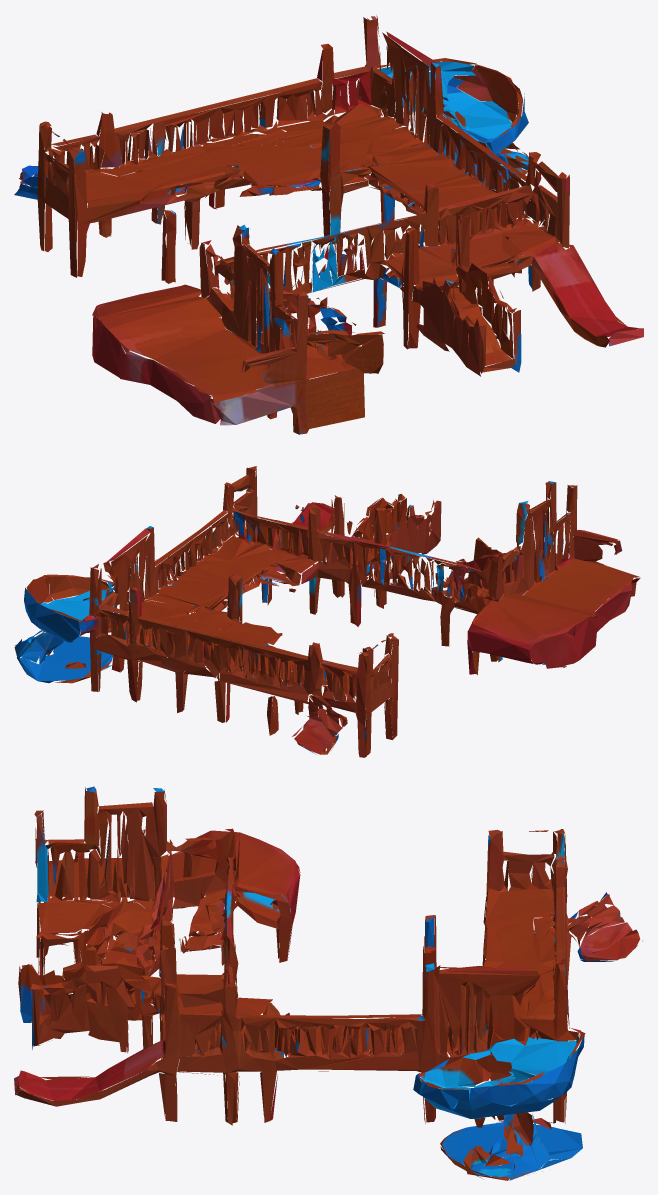
Rendered from 18_parrot_play_fort.glb.
The picture shows the model from 3 angles, top to bottom: view 1: azimuth 30°, elevation 25°; view 2: azimuth 150°, elevation 25°; view 3: azimuth 270°, elevation 25°; orthographic projection. The views are drawn at different scales.
Visible parts, largest first — view 1: 18_parrot_play_fort.ply; view 2: 18_parrot_play_fort.ply; view 3: 18_parrot_play_fort.ply.
Boxes of the visible parts, x1=… form: 18_parrot_play_fort.ply: x1=14, y1=15, x2=643, y2=434; 18_parrot_play_fort.ply: x1=14, y1=466, x2=640, y2=757; 18_parrot_play_fort.ply: x1=14, y1=786, x2=642, y2=1180.
Bounding box in the file's own units: 1 × 0.2959 × 0.9522.
Materials: 1 (1 with a texture image).
